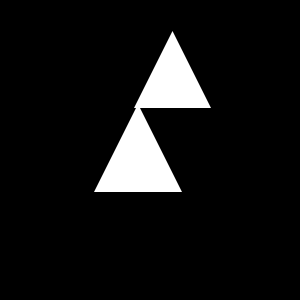triangle: (94, 104, 182, 192), (134, 31, 211, 108)
